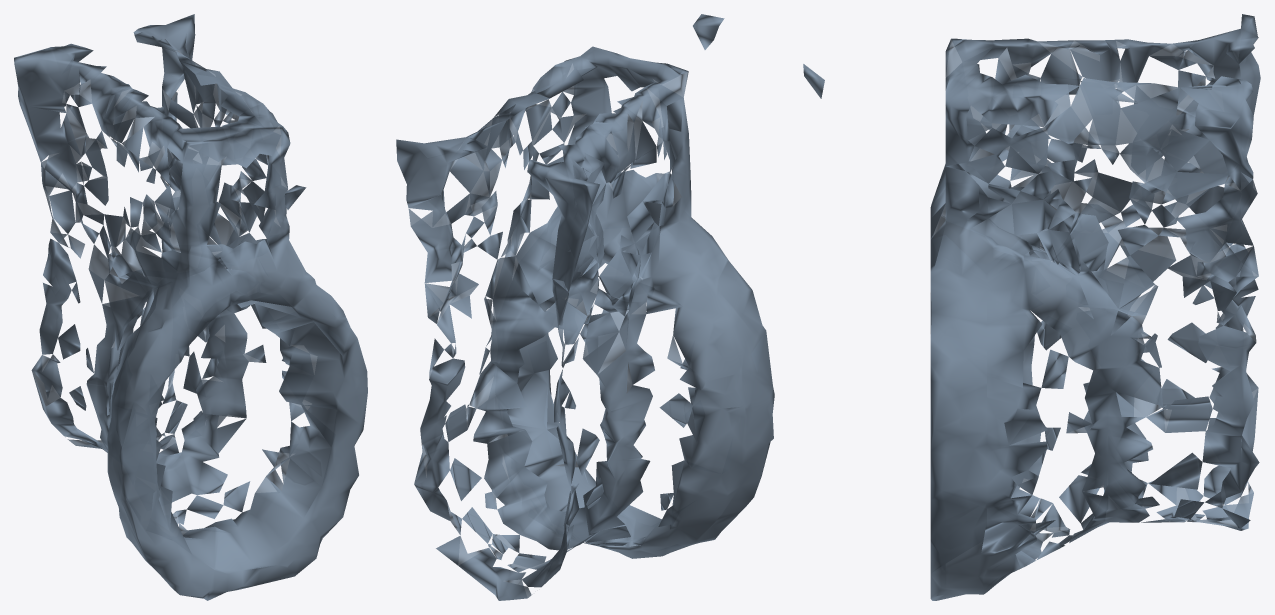
The model's file is toilet_0045_original.obj.
3 renders of one model, left to right at view 1: azimuth 30°, elevation 25°; view 2: azimuth 150°, elevation 25°; view 3: azimuth 270°, elevation 25°, orthographic. The views are drawn at different scales.
Bounding box in the file's own units: 0.8582 × 1.53 × 1.23.
